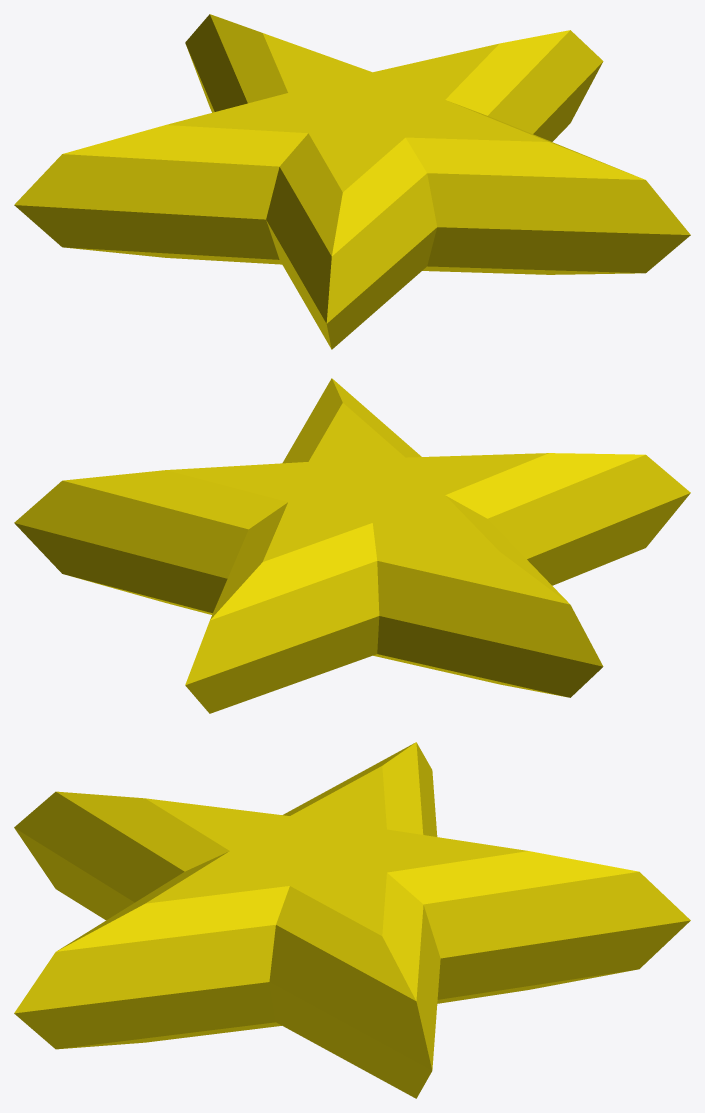
File: Star.fbx
3 views of the same model, one above another, from view 1: azimuth 30°, elevation 25°; view 2: azimuth 150°, elevation 25°; view 3: azimuth 270°, elevation 25° (orthographic). The views are drawn at different scales.
Parts seen in each view (by area): view 1: Cylinder; view 2: Cylinder; view 3: Cylinder.
Boxes of the visible parts, x1,y1,x2,y2 form: Cylinder: (14,14,690,349); Cylinder: (14,378,690,713); Cylinder: (14,742,690,1098).
Size of the model in its own units: 221 by 47.51 by 210.
